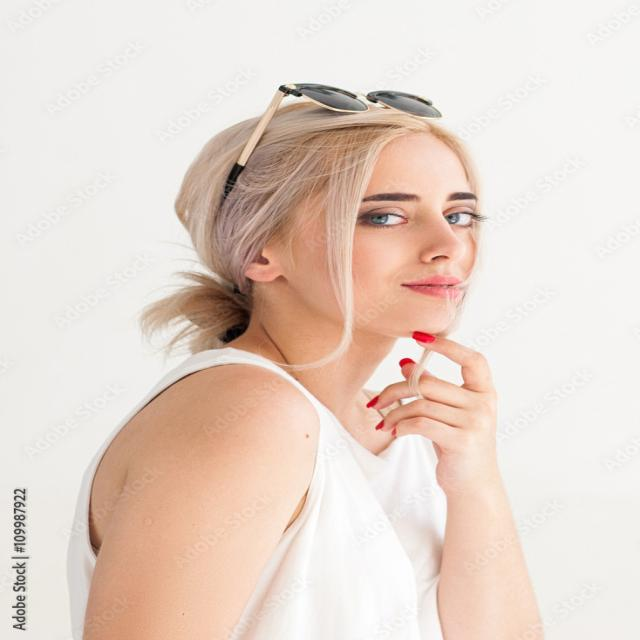glasses: (196, 64, 499, 141)
